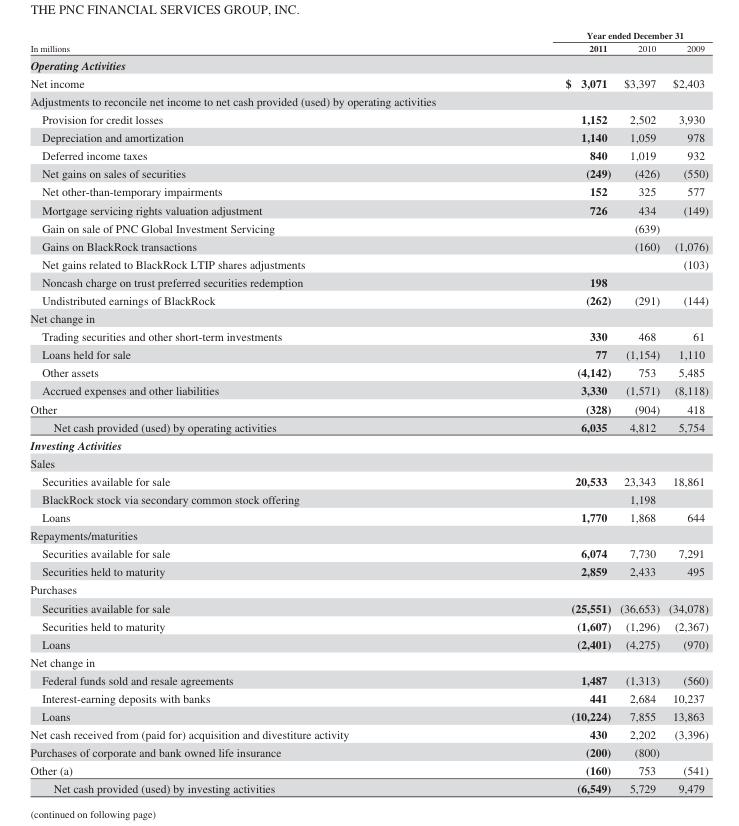table: (29, 29, 707, 795)
table column: (29, 29, 456, 795), (456, 29, 614, 795), (614, 29, 663, 795), (663, 29, 707, 795)
table column header: (29, 29, 707, 55)
table projected row header: (29, 55, 707, 73), (29, 91, 707, 109), (29, 435, 707, 453), (29, 453, 707, 471), (29, 526, 707, 544), (29, 580, 707, 598), (29, 652, 707, 670), (29, 309, 707, 326)
table row: (29, 127, 707, 146), (29, 290, 707, 309), (29, 326, 707, 345), (29, 507, 707, 526), (29, 706, 707, 725), (29, 55, 707, 73), (29, 73, 707, 91), (29, 91, 707, 109), (29, 109, 707, 127), (29, 146, 707, 164), (29, 164, 707, 182), (29, 182, 707, 200), (29, 200, 707, 218), (29, 218, 707, 236), (29, 236, 707, 254), (29, 254, 707, 272), (29, 272, 707, 290), (29, 345, 707, 363), (29, 363, 707, 381), (29, 381, 707, 399), (29, 399, 707, 417), (29, 417, 707, 435), (29, 435, 707, 453), (29, 453, 707, 471), (29, 471, 707, 489), (29, 489, 707, 507), (29, 526, 707, 544), (29, 544, 707, 562), (29, 562, 707, 580), (29, 580, 707, 598), (29, 598, 707, 616), (29, 616, 707, 634), (29, 634, 707, 652), (29, 652, 707, 670), (29, 670, 707, 688), (29, 688, 707, 706), (29, 725, 707, 743), (29, 743, 707, 761), (29, 761, 707, 779), (29, 309, 707, 326), (29, 779, 707, 795), (29, 40, 707, 55), (29, 29, 707, 40)
table spanning cell: (29, 29, 456, 55), (456, 29, 707, 40)
